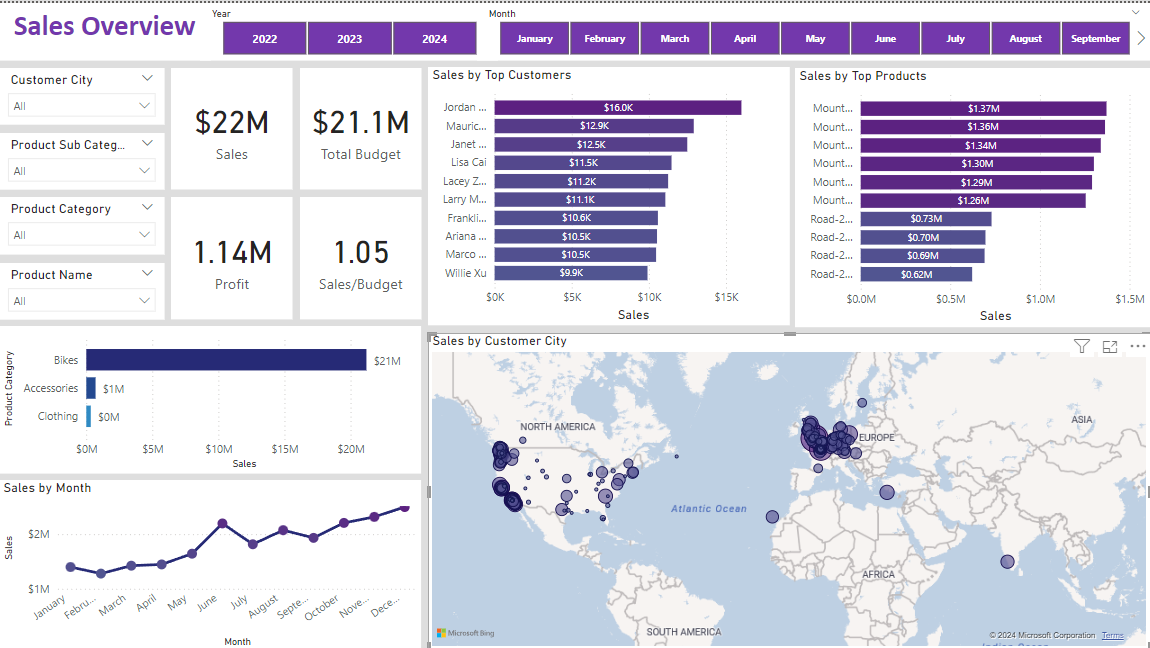

What the dashboard file says about the page in this screenshot:
{"tool":"powerbi","page":{"name":"Sales Overview I","canvas":[1280,720],"ordinal":0},"visuals":[{"type":"textbox","box":[0,0,234.5,63.6],"z":0},{"type":"slicer","fields":{"Values":["Dim_Customer.Customer City"]},"box":[0,72.5,183.6,62.7],"z":1000},{"type":"slicer","fields":{"Values":["Dim_Product.Product Sub Category"]},"box":[0,144.2,183.6,62.7],"z":2000},{"type":"slicer","fields":{"Values":["Dim_Product.Product Category"]},"box":[0,215.8,183.6,63.6],"z":3000},{"type":"slicer","fields":{"Values":["Dim_Product.Product Name"]},"box":[0,288.4,183.6,62.7],"z":4000},{"type":"slicer","fields":{"Values":["Dim_Calendar.Year"]},"box":[222.8,0,330.7,64],"z":5000},{"type":"slicer","fields":{"Values":["Dim_Calendar.Date.Variation.Date Hierarchy.Month"]},"box":[530.6,0,749.4,64],"z":6000},{"type":"card","fields":{"Values":["Key Measures.Total Budget"]},"box":[334,72.5,135.2,135.2],"z":7000},{"type":"card","fields":{"Values":["Key Measures.Sales"]},"box":[191.6,72.5,135.2,135.2],"z":8000},{"type":"card","fields":{"Values":["Key Measures.Sales / Total Budget"]},"box":[334,215.8,135.2,136.1],"z":9000},{"type":"card","fields":{"Values":["Key Measures.Sales - budget"]},"box":[191.6,215.8,135.2,136.1],"z":10000},{"type":"barChart","fields":{"Category":["Dim_Product.Product Category","Dim_Product.Product Sub Category"],"Y":["Key Measures.Sales"],"Series":["Dim_Product.Product Category"]},"box":[0,360,469.3,163.9],"z":11000},{"type":"lineChart","fields":{"Y":["Key Measures.Sales"],"Category":["Dim_Calendar.Date.Variation.Date Hierarchy.Month"]},"box":[0,530.1,469.3,189.9],"z":12000},{"type":"barChart","title":"Sales by Top Customers","fields":{"Y":["Key Measures.Sales"],"Category":["Dim_Customer.Full Name"]},"box":[476.4,71.6,402.1,287.5],"z":13000},{"type":"barChart","title":"Sales by Top Products","fields":{"Y":["Key Measures.Sales"],"Category":["Dim_Product.Product Name"]},"box":[884.9,72.6,395.1,287.6],"z":14000},{"type":"map","title":"Sales by Customer City","fields":{"Category":["Dim_Customer.Customer City"],"Size":["Key Measures.Sales"]},"box":[476.4,367.2,803.3,352.8],"z":15000}]}

Visuals, with their boxes in screenshot pixels (x1, y1, x2, y2), scaled from the page's 1280x720 canvas onto the 1150x648 screenshot:
textbox: locate(0, 0, 211, 57)
slicer - Dim_Customer.Customer City: locate(0, 65, 165, 122)
slicer - Dim_Product.Product Sub Category: locate(0, 130, 165, 186)
slicer - Dim_Product.Product Category: locate(0, 194, 165, 251)
slicer - Dim_Product.Product Name: locate(0, 260, 165, 316)
slicer - Dim_Calendar.Year: locate(200, 0, 497, 58)
slicer - Dim_Calendar.Date.Variation.Date Hierarchy.Month: locate(477, 0, 1149, 58)
card - Key Measures.Total Budget: locate(300, 65, 422, 187)
card - Key Measures.Sales: locate(172, 65, 294, 187)
card - Key Measures.Sales / Total Budget: locate(300, 194, 422, 317)
card - Key Measures.Sales - budget: locate(172, 194, 294, 317)
barChart - Dim_Product.Product Category x Dim_Product.Product Sub Category: locate(0, 324, 422, 472)
lineChart - Key Measures.Sales x Dim_Calendar.Date.Variation.Date Hierarchy.Month: locate(0, 477, 422, 647)
"Sales by Top Customers" barChart: locate(428, 64, 789, 323)
"Sales by Top Products" barChart: locate(795, 65, 1149, 324)
"Sales by Customer City" map: locate(428, 330, 1149, 647)
